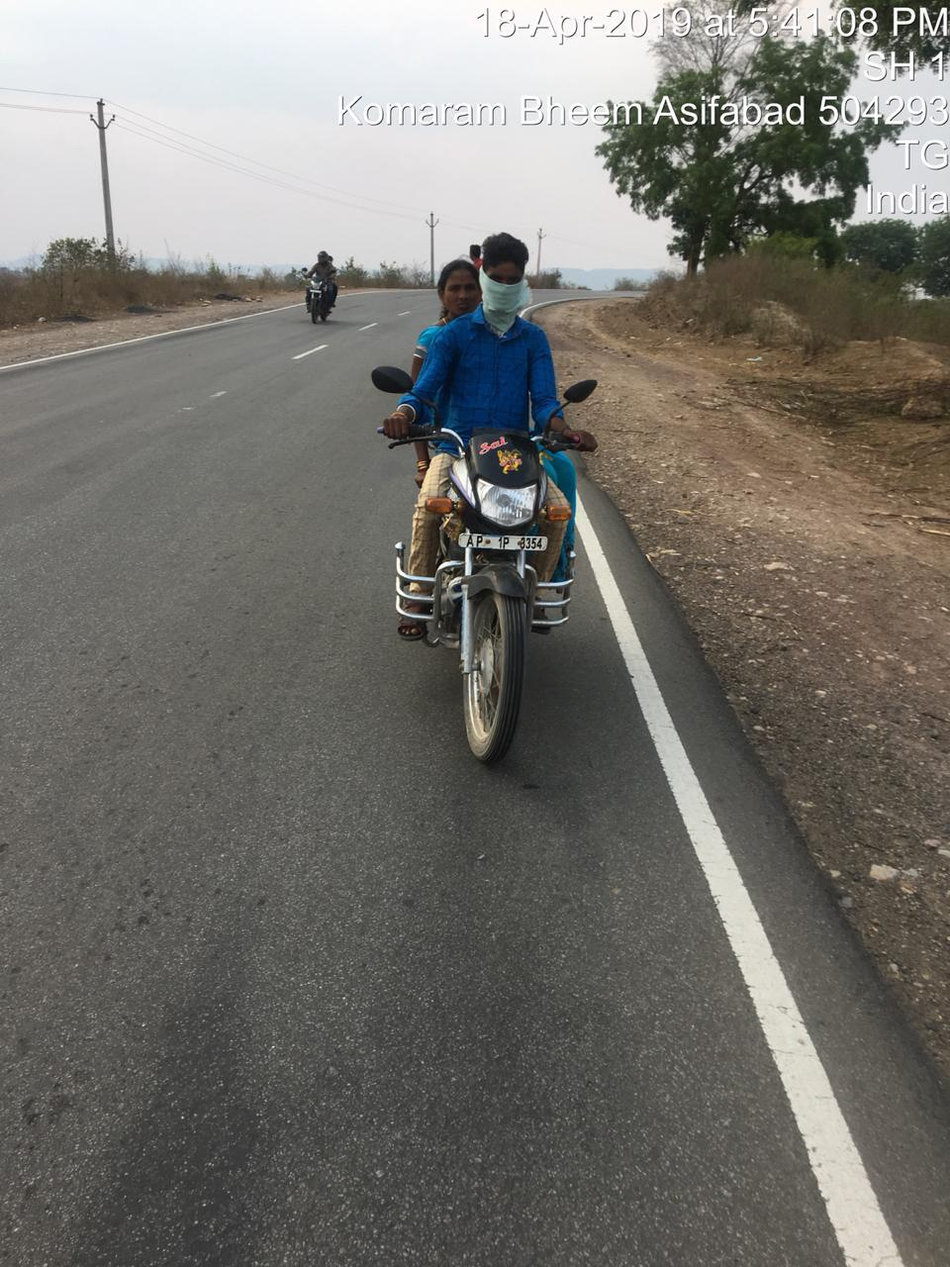plate: (450, 521, 561, 571)
